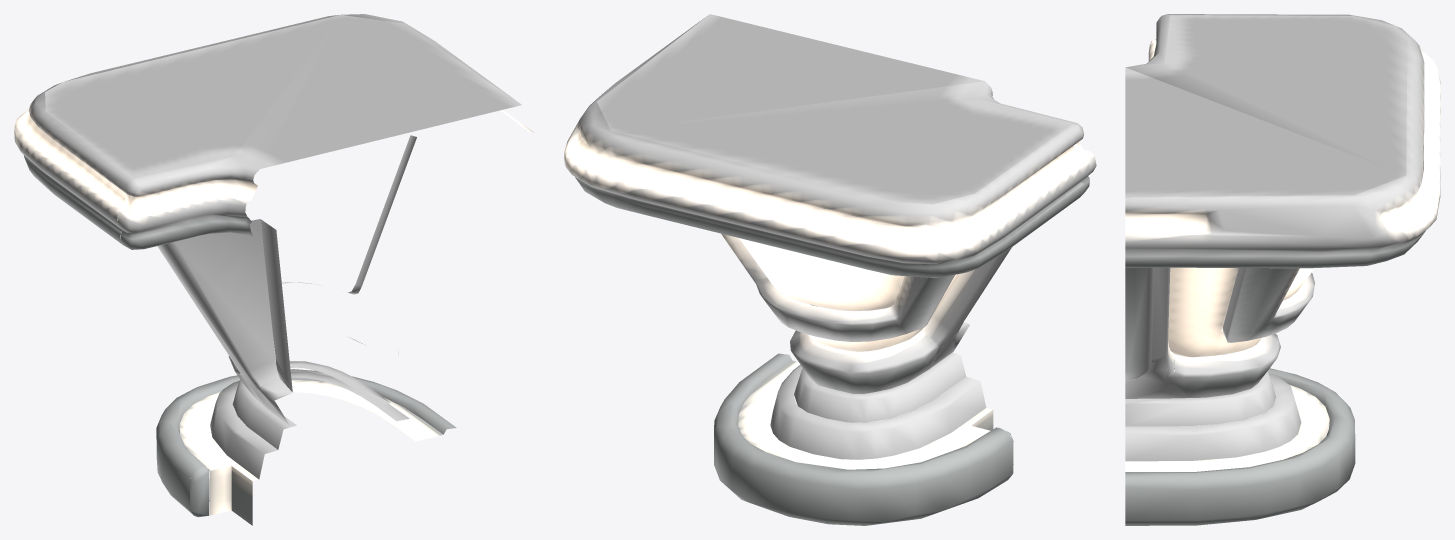
Rendered from table_bar_a.glb.
3 views of the same model, side by side, from view 1: azimuth 30°, elevation 25°; view 2: azimuth 150°, elevation 25°; view 3: azimuth 270°, elevation 25° (orthographic). The views are drawn at different scales.
Visible parts, largest first — view 1: table_bar; view 2: table_bar; view 3: table_bar.
Part boxes in pixels (x1,y1,x2,y2): table_bar: [14, 14, 533, 525]; table_bar: [564, 14, 1096, 525]; table_bar: [1125, 14, 1440, 525].
Bounding box in the file's own units: 1.29 × 1.1 × 0.8676.
Materials: 1 (1 with a texture image).
